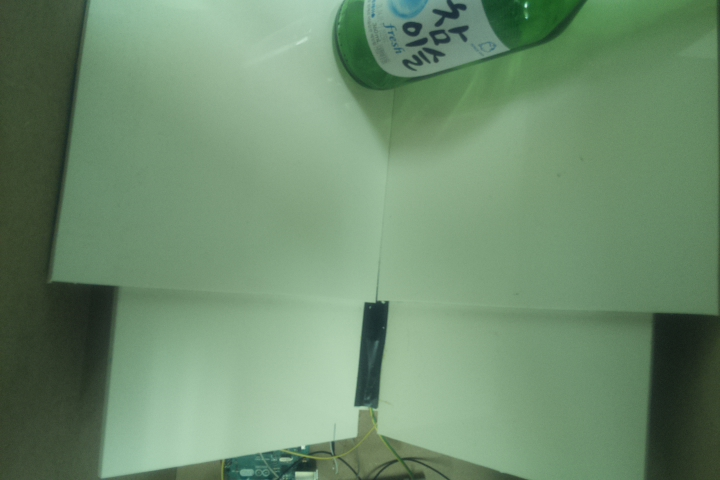soju: (329, 1, 597, 95)
